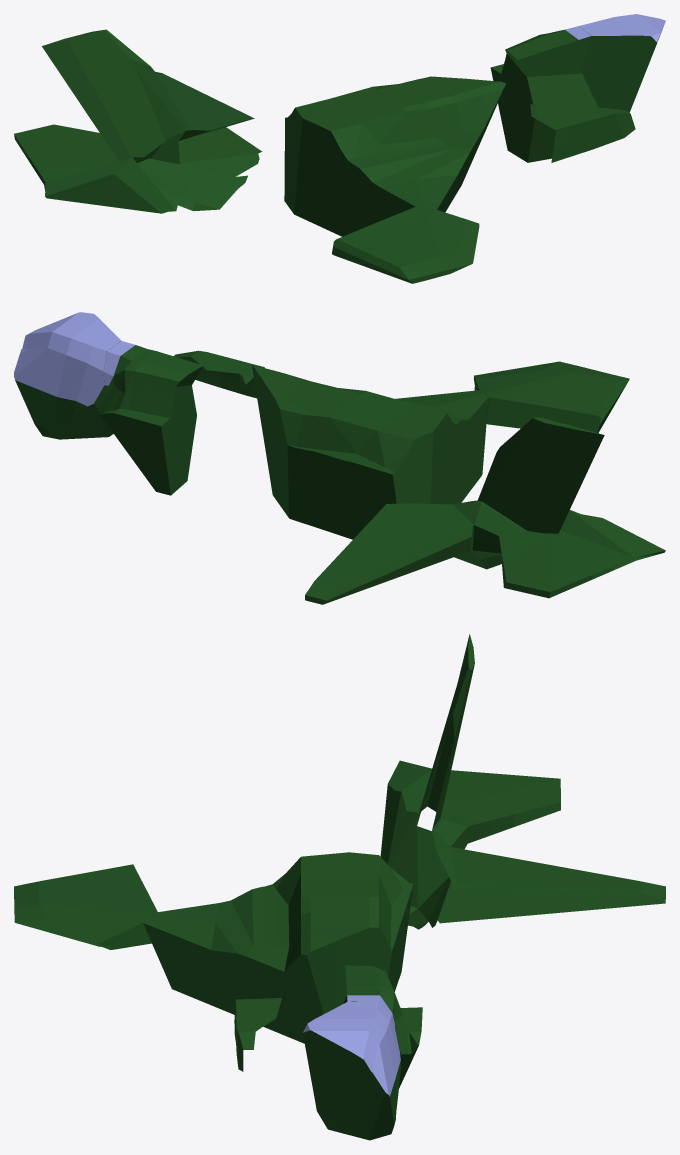
Rendered from Jet.fbx.
3 views of the same model, one above another, from view 1: azimuth 30°, elevation 25°; view 2: azimuth 150°, elevation 25°; view 3: azimuth 270°, elevation 25° (orthographic). The views are drawn at different scales.
Visible parts, largest first — view 1: Jet_cell.012, Jet_cell.005, Jet_cell, Jet_cell.009, Jet_cell.015, Jet_cell.025, Jet_cell.013; view 2: Jet_cell.012, Jet_cell.005, Jet_cell.009, Jet_cell, Jet_cell.015, Jet_cell.013, Jet_cell.025; view 3: Jet_cell.005, Jet_cell.012, Jet_cell.009, Jet_cell, Jet_cell.025, Jet_cell.013, Jet_cell.015.
Boxes of the visible parts, left/top/right/bottom form: Jet_cell.012: left=14, top=29, right=262, bottom=213; Jet_cell.005: left=284, top=76, right=505, bottom=236; Jet_cell: left=332, top=207, right=479, bottom=283; Jet_cell.009: left=579, top=14, right=665, bottom=112; Jet_cell.015: left=490, top=53, right=598, bottom=162; Jet_cell.025: left=530, top=104, right=635, bottom=162; Jet_cell.013: left=505, top=26, right=591, bottom=76; Jet_cell.012: left=305, top=417, right=665, bottom=604; Jet_cell.005: left=252, top=365, right=488, bottom=539; Jet_cell.009: left=14, top=312, right=121, bottom=439; Jet_cell: left=473, top=361, right=629, bottom=433; Jet_cell.015: left=94, top=385, right=196, bottom=495; Jet_cell.013: left=103, top=341, right=203, bottom=386; Jet_cell.025: left=173, top=350, right=264, bottom=398; Jet_cell.005: left=143, top=852, right=413, bottom=1043; Jet_cell.012: left=380, top=634, right=665, bottom=929; Jet_cell.009: left=303, top=1001, right=400, bottom=1140; Jet_cell: left=14, top=864, right=157, bottom=949; Jet_cell.025: left=234, top=987, right=288, bottom=1071; Jet_cell.013: left=345, top=965, right=400, bottom=1027; Jet_cell.015: left=343, top=995, right=422, bottom=1088.
Bounding box in the file's own units: 966 × 284 × 770.
